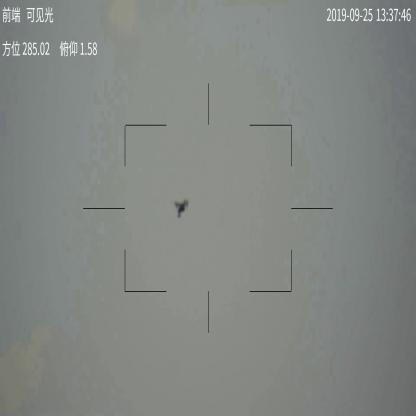uav: (173, 198, 191, 220)
